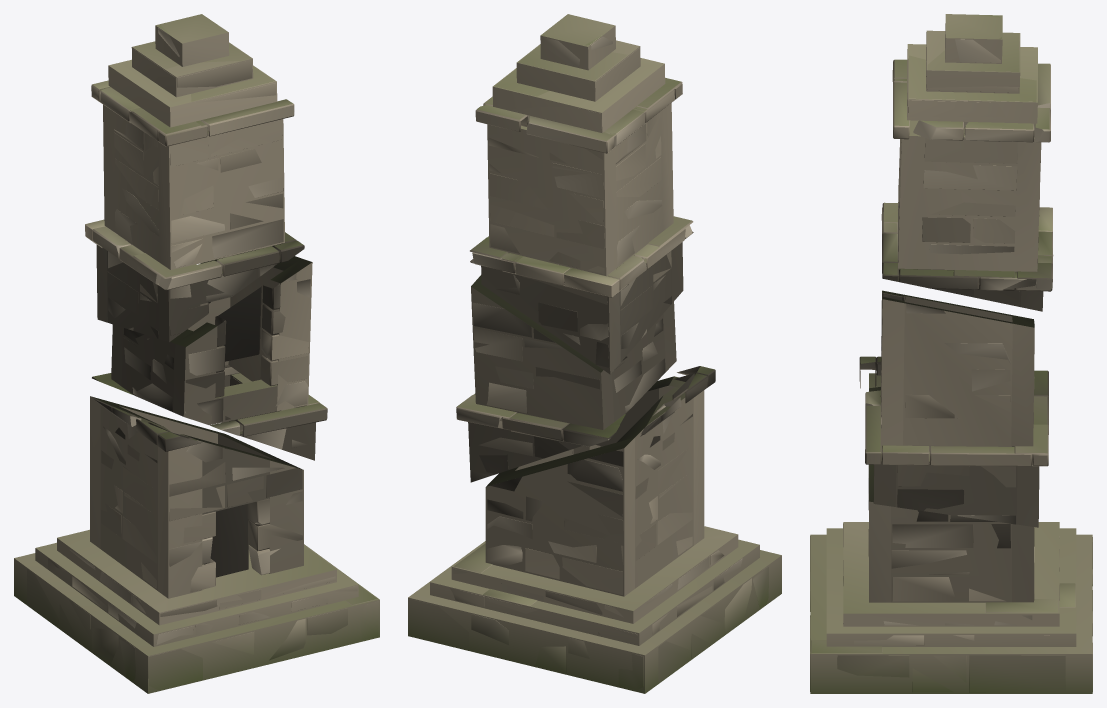
File: tombs_tower_cracked.glb
3 renders of one model, left to right at view 1: azimuth 30°, elevation 25°; view 2: azimuth 150°, elevation 25°; view 3: azimuth 270°, elevation 25°, orthographic. The views are drawn at different scales.
Parts seen in each view (by area): view 1: tombs_tower_cracked_far, tombs_tower_cracked; view 2: tombs_tower_cracked_far, tombs_tower_cracked; view 3: tombs_tower_cracked_far, tombs_tower_cracked.
Part boxes in pixels (x1,y1,x2,y2): tombs_tower_cracked_far: (14, 14, 379, 693); tombs_tower_cracked: (27, 14, 378, 690); tombs_tower_cracked_far: (408, 14, 781, 693); tombs_tower_cracked: (409, 34, 768, 690); tombs_tower_cracked_far: (810, 14, 1092, 693); tombs_tower_cracked: (810, 15, 1092, 692).
Size of the model in its own units: 15.42 by 36.75 by 15.42.
